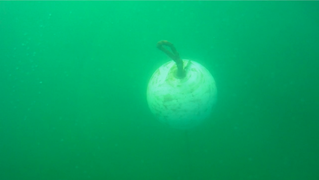buoy: (145, 58, 219, 130)
